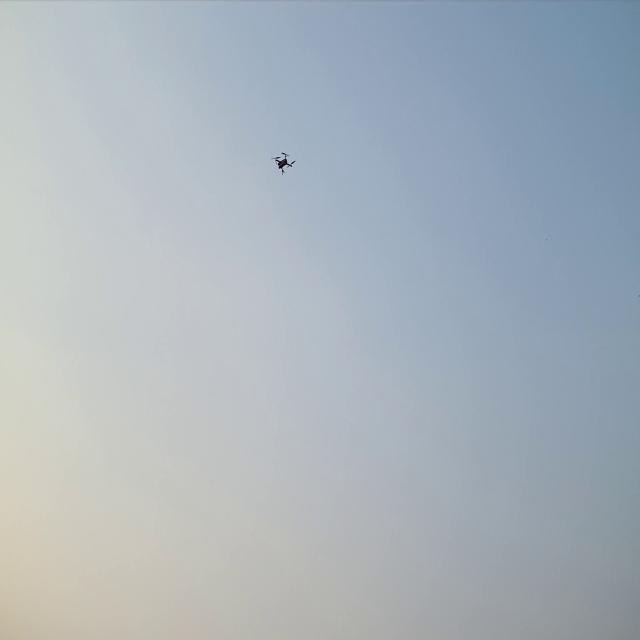UAV: (270, 150, 297, 177)
